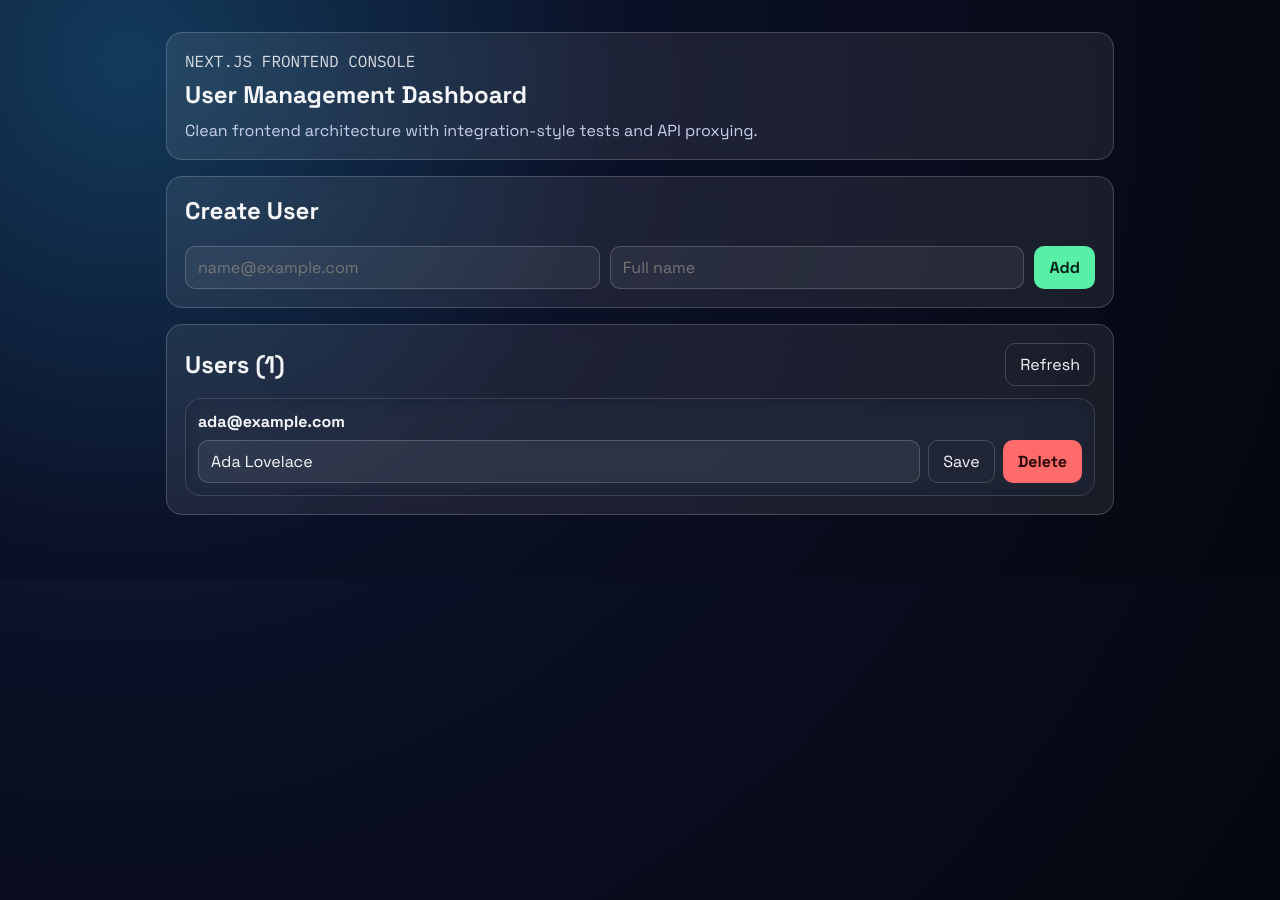
Test: UsersPage integration › updates and deletes a user
The width and height of the screenshot is (1280, 900).
Expected: the text "ada@example.com" is shown, [198,411,345,432]
Replace the text in the field named "name-11111111-1111-4111-8111-111111111111" with "Ada Updated". click: (559, 461)
box: [198,440,920,483]
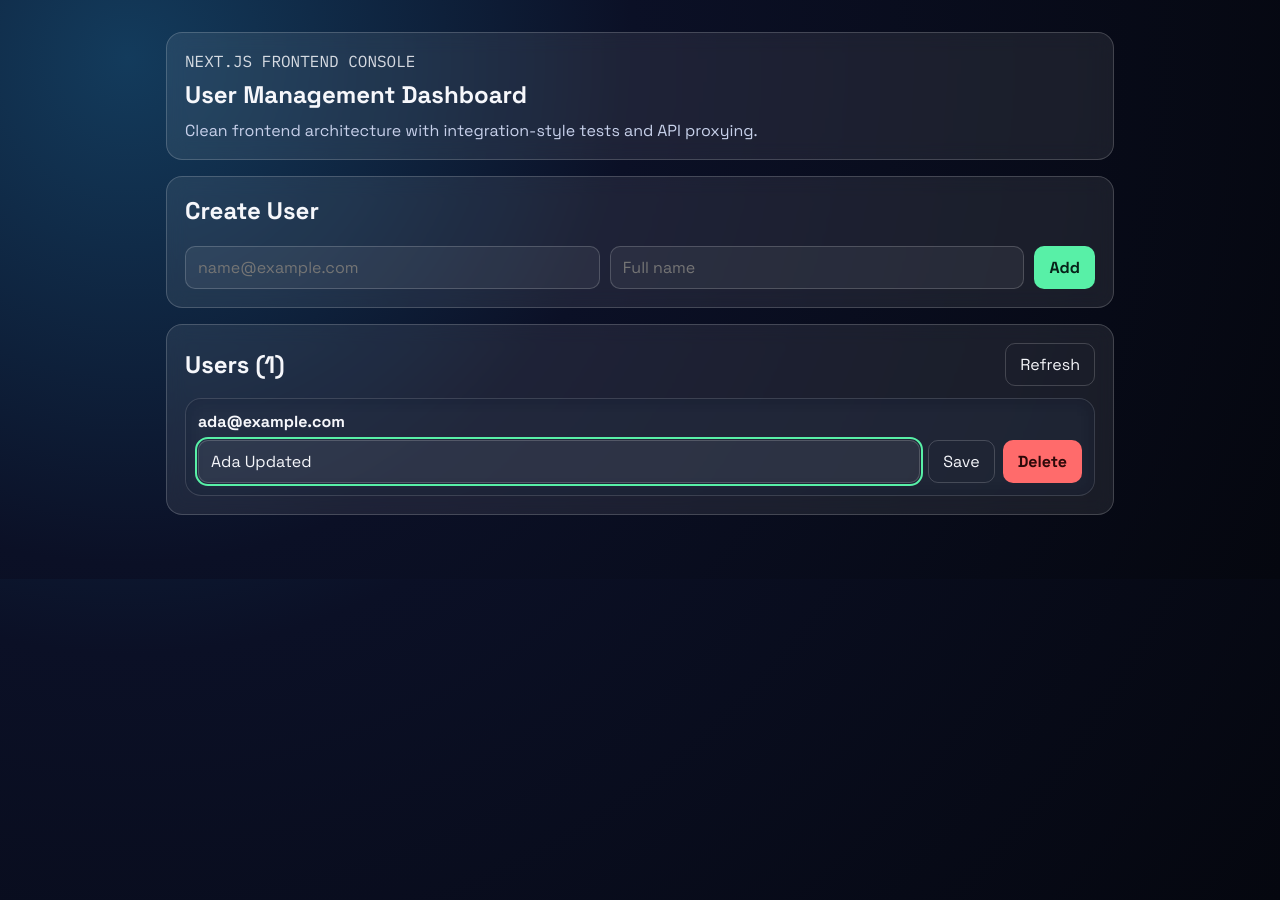
Click the button "Save". click: (962, 461)
box: [928,440,995,483]
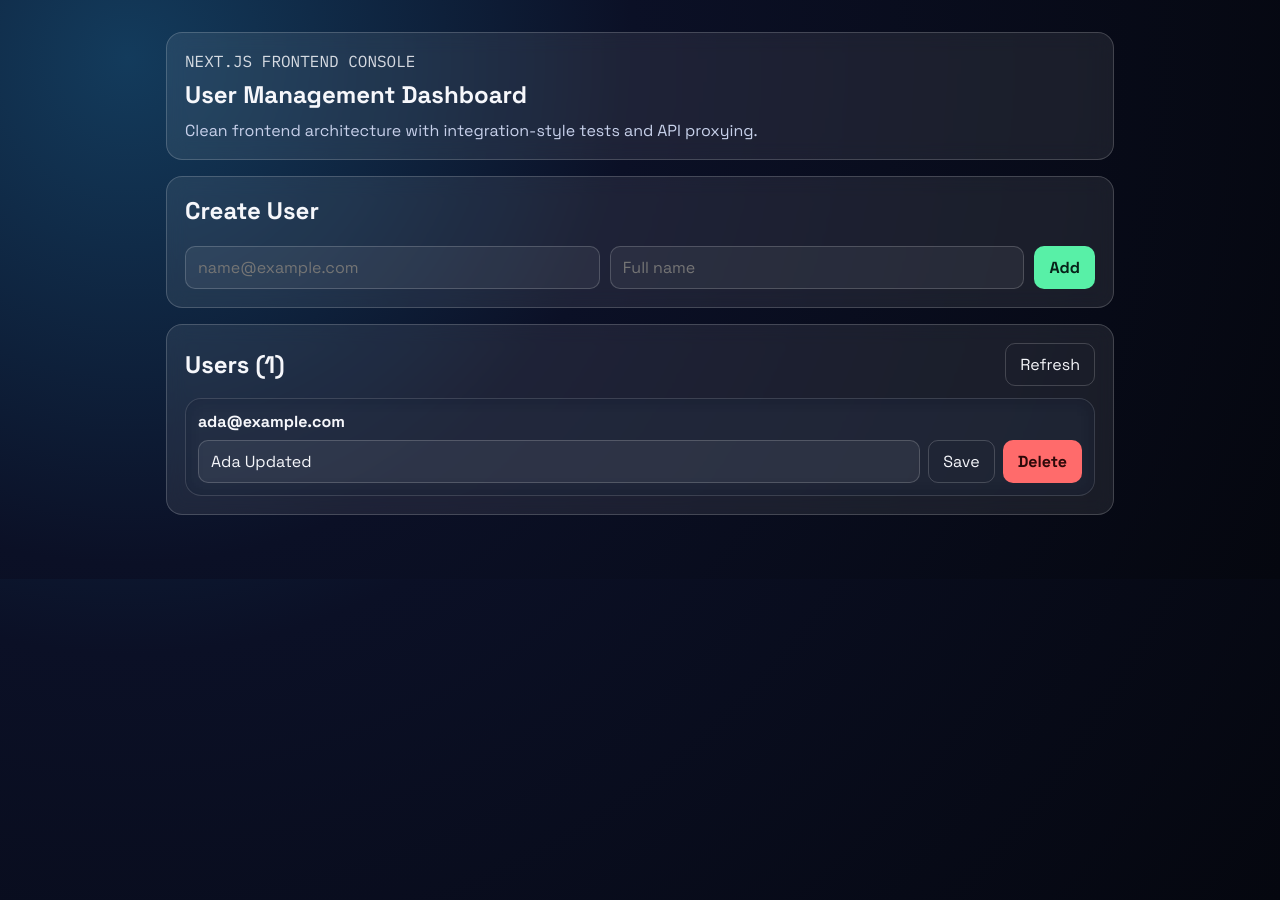
Click the button "Delete". click: (1042, 461)
box: [1003,440,1082,483]
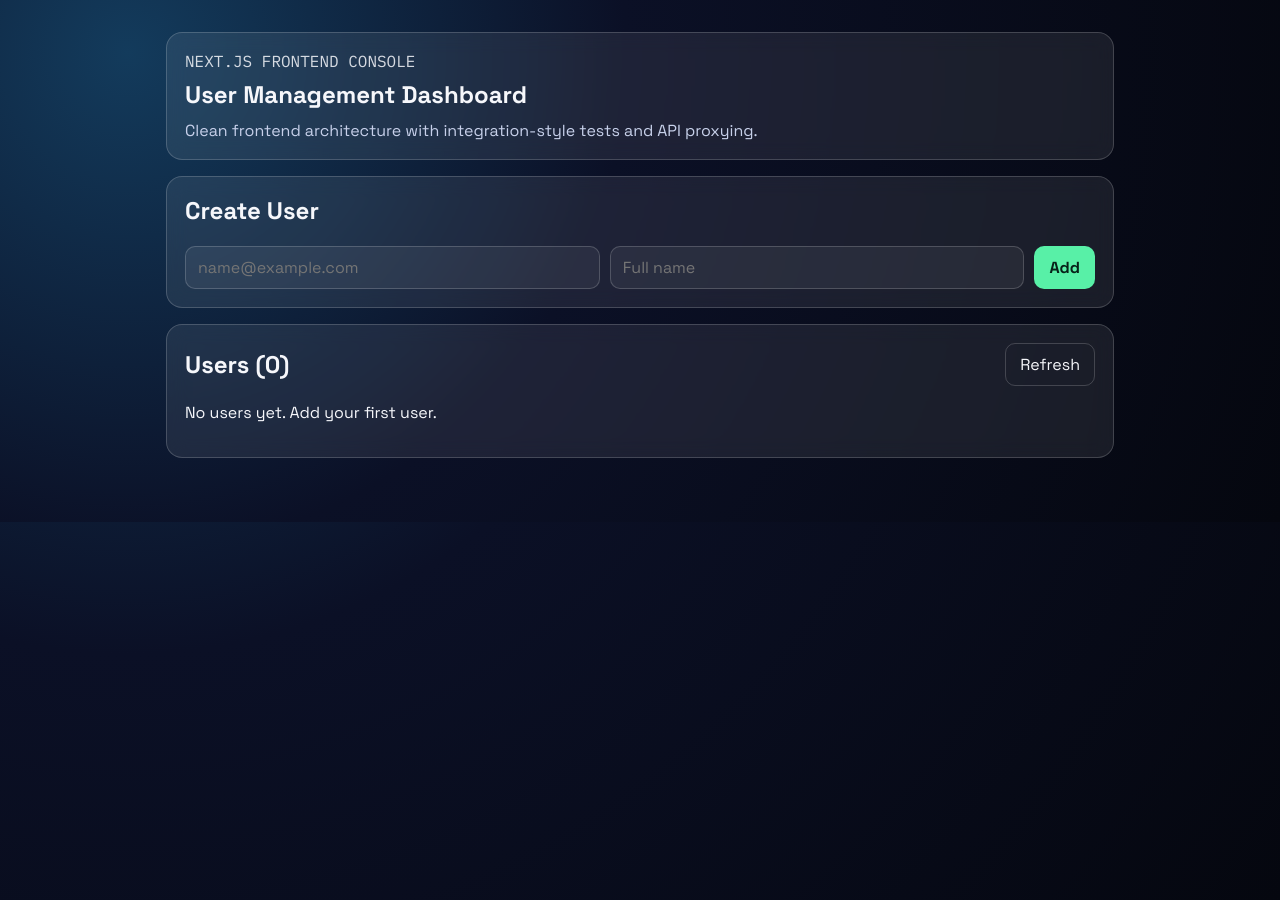
Now the text "ada@example.com" is gone
Now the heading "Users (0)" is shown, box [185,349,290,380]
